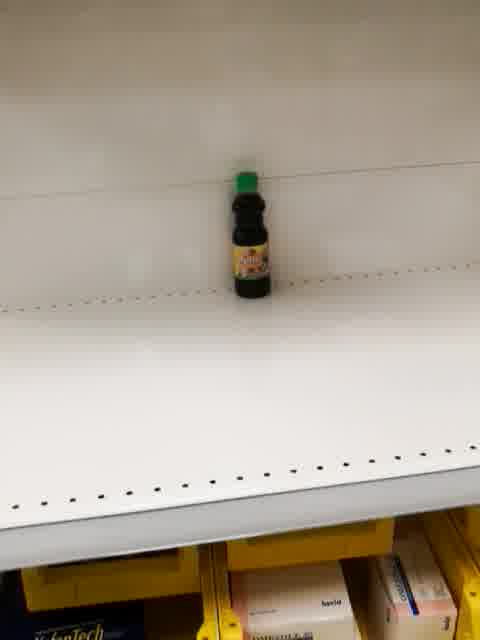cookingoil: (228, 168, 274, 301)
